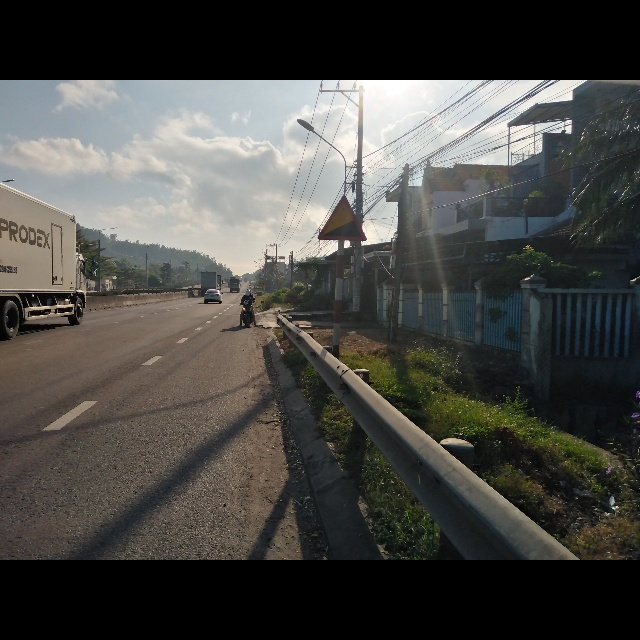Dốc lên nguy hiểm: (317, 195, 368, 242)
